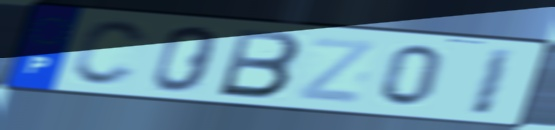0: (149, 24, 222, 95), (375, 43, 449, 109)
B: (214, 26, 305, 102)
C: (68, 18, 150, 89)
I: (466, 45, 518, 118)
Z: (292, 35, 381, 107)
